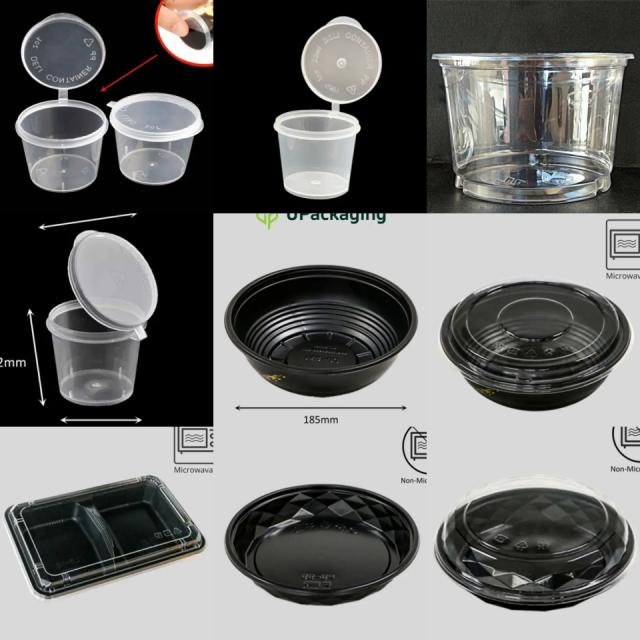Single-Use-Plastic: (432, 52, 632, 203), (435, 476, 635, 609), (225, 265, 418, 396), (5, 475, 205, 598), (440, 282, 631, 410), (225, 485, 419, 604), (46, 230, 158, 406), (274, 16, 381, 199), (15, 12, 109, 192), (109, 92, 204, 184)
